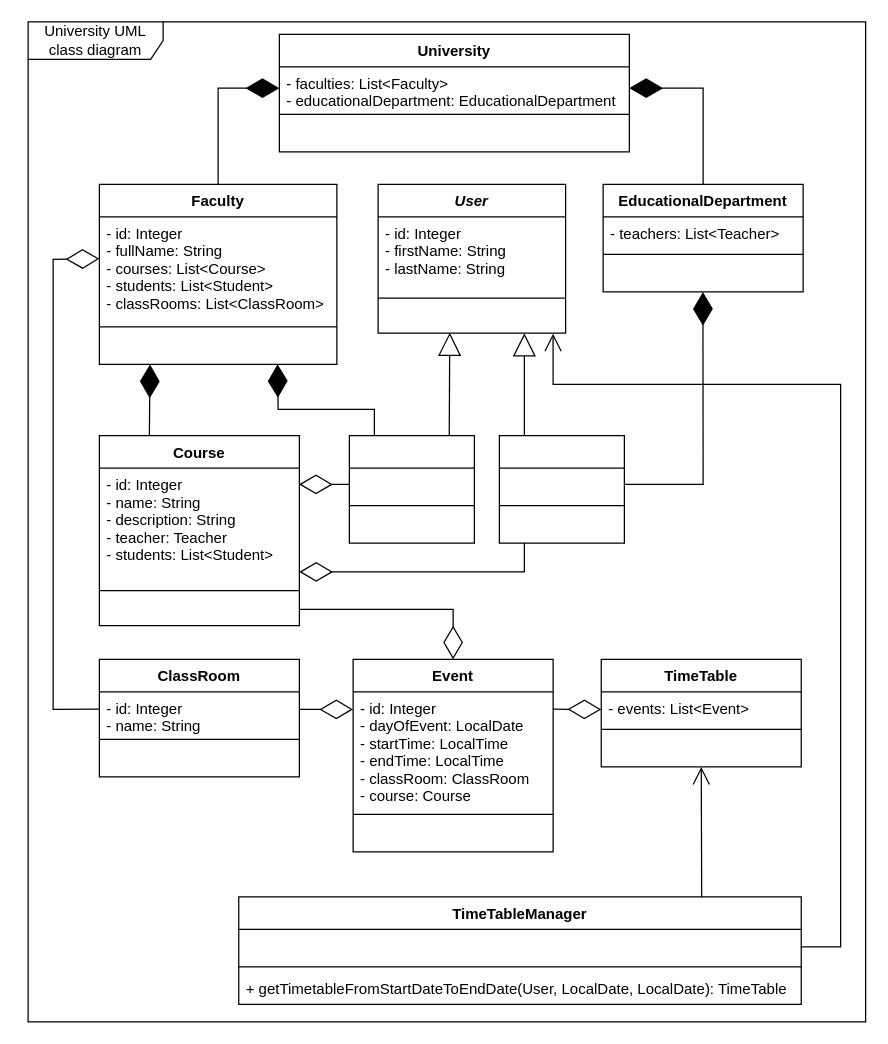
Image size: 888x1044. Some labels were removed from this diagram. The shapes that lost their labels are listed below. From the top down, each one's centre as x and y in pixels, then its label:
point 411,488: Student
point 561,488: Teacher
